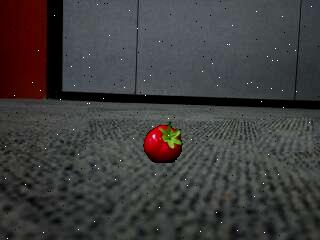Tomato: (142, 120, 184, 164)
